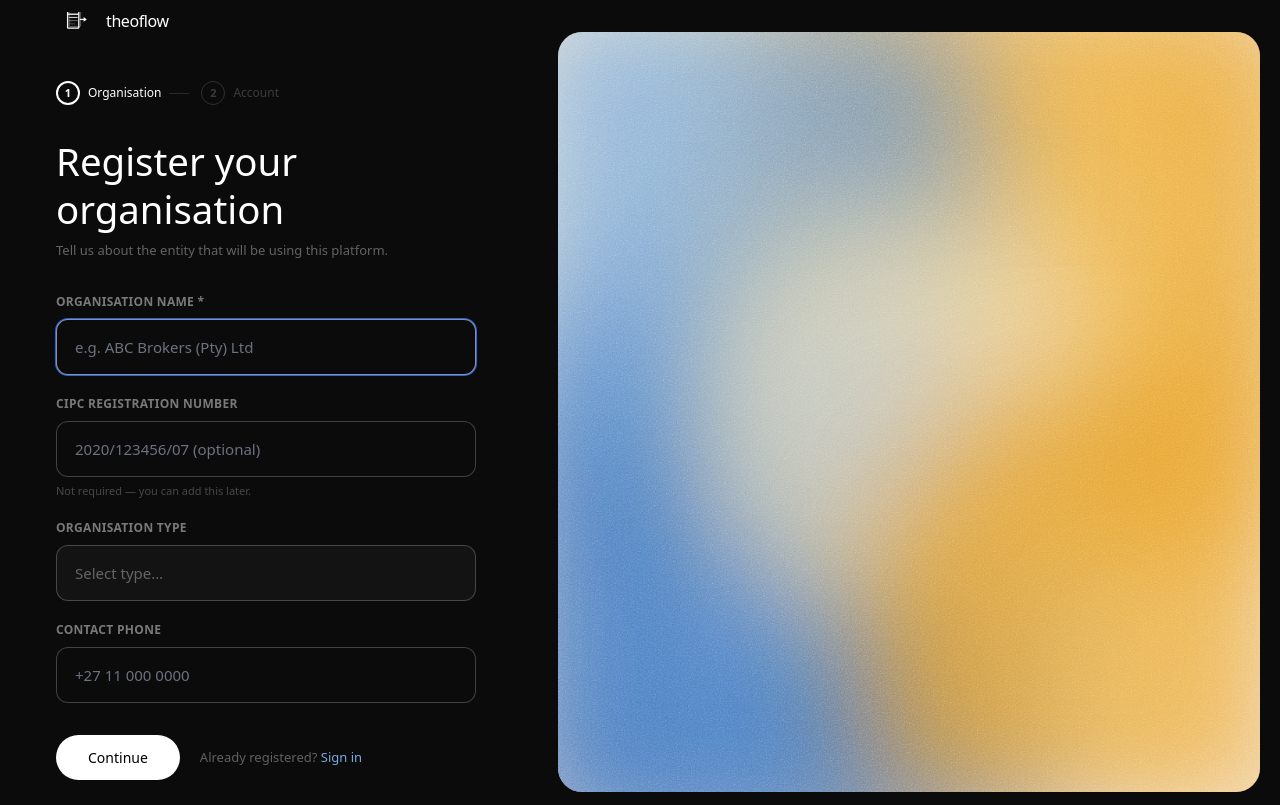
it: RegisterPage › Step 1 — Organisation › shows error when org name is empty
This screenshot has width=1280, height=805.
(page scrolled)
Click the button "Continue" at (118, 758), box [56, 735, 180, 780]
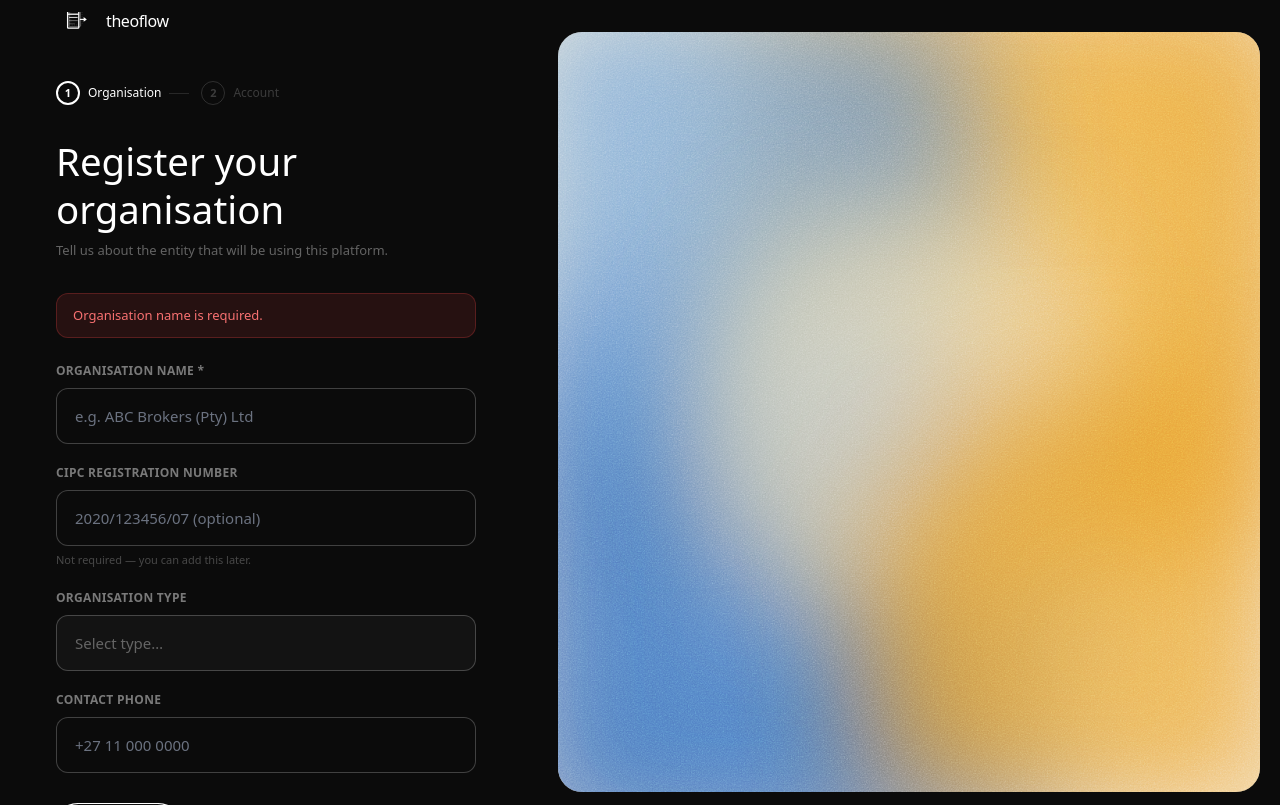
Expected: the message shows "Organisation name is required", [73, 306, 263, 324]
